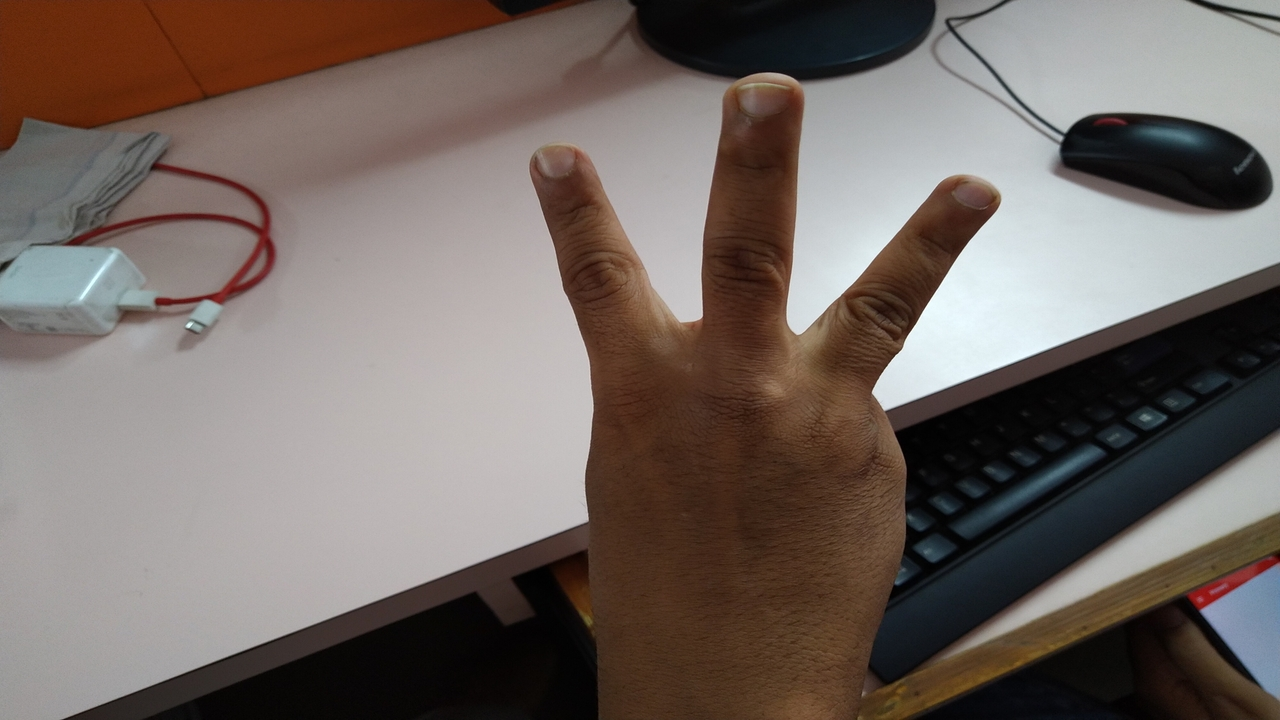fingertip: (720, 66, 804, 136), (516, 136, 596, 198), (934, 166, 1010, 228)
